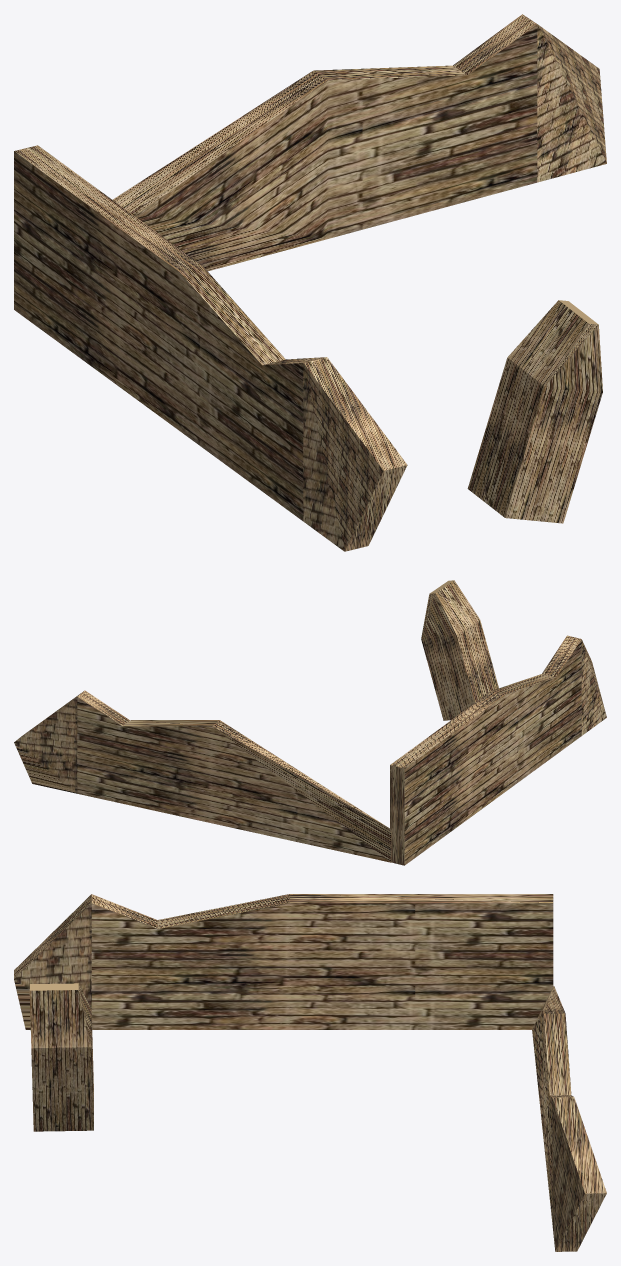
Rendered from brokenwalls.fbx.
3 renders of one model, top to bottom at view 1: azimuth 30°, elevation 25°; view 2: azimuth 150°, elevation 25°; view 3: azimuth 270°, elevation 25°, orthographic. The views are drawn at different scales.
Parts seen in each view (by area): view 1: Cube.002, Cube, Cube.001; view 2: Cube.002, Cube, Cube.001; view 3: Cube, Cube.002, Cube.001.
Part boxes in pixels (x1,y1,x2,y2): Cube.002: (112,14,606,271); Cube: (14,145,407,551); Cube.001: (467,300,602,523); Cube.002: (14,690,391,862); Cube: (390,635,606,865); Cube.001: (421,580,498,720); Cube: (14,894,553,1029); Cube.002: (532,986,606,1251); Cube.001: (29,983,93,1131).
Bounding box in the file's own units: 799 × 249 × 849.
